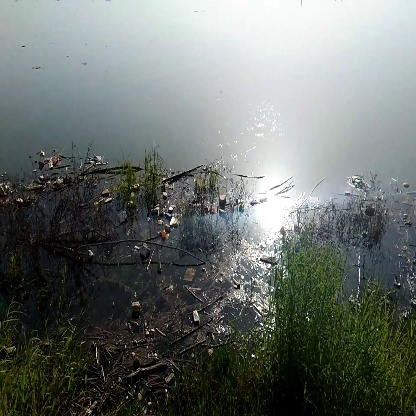branch: (74, 231, 209, 272)
